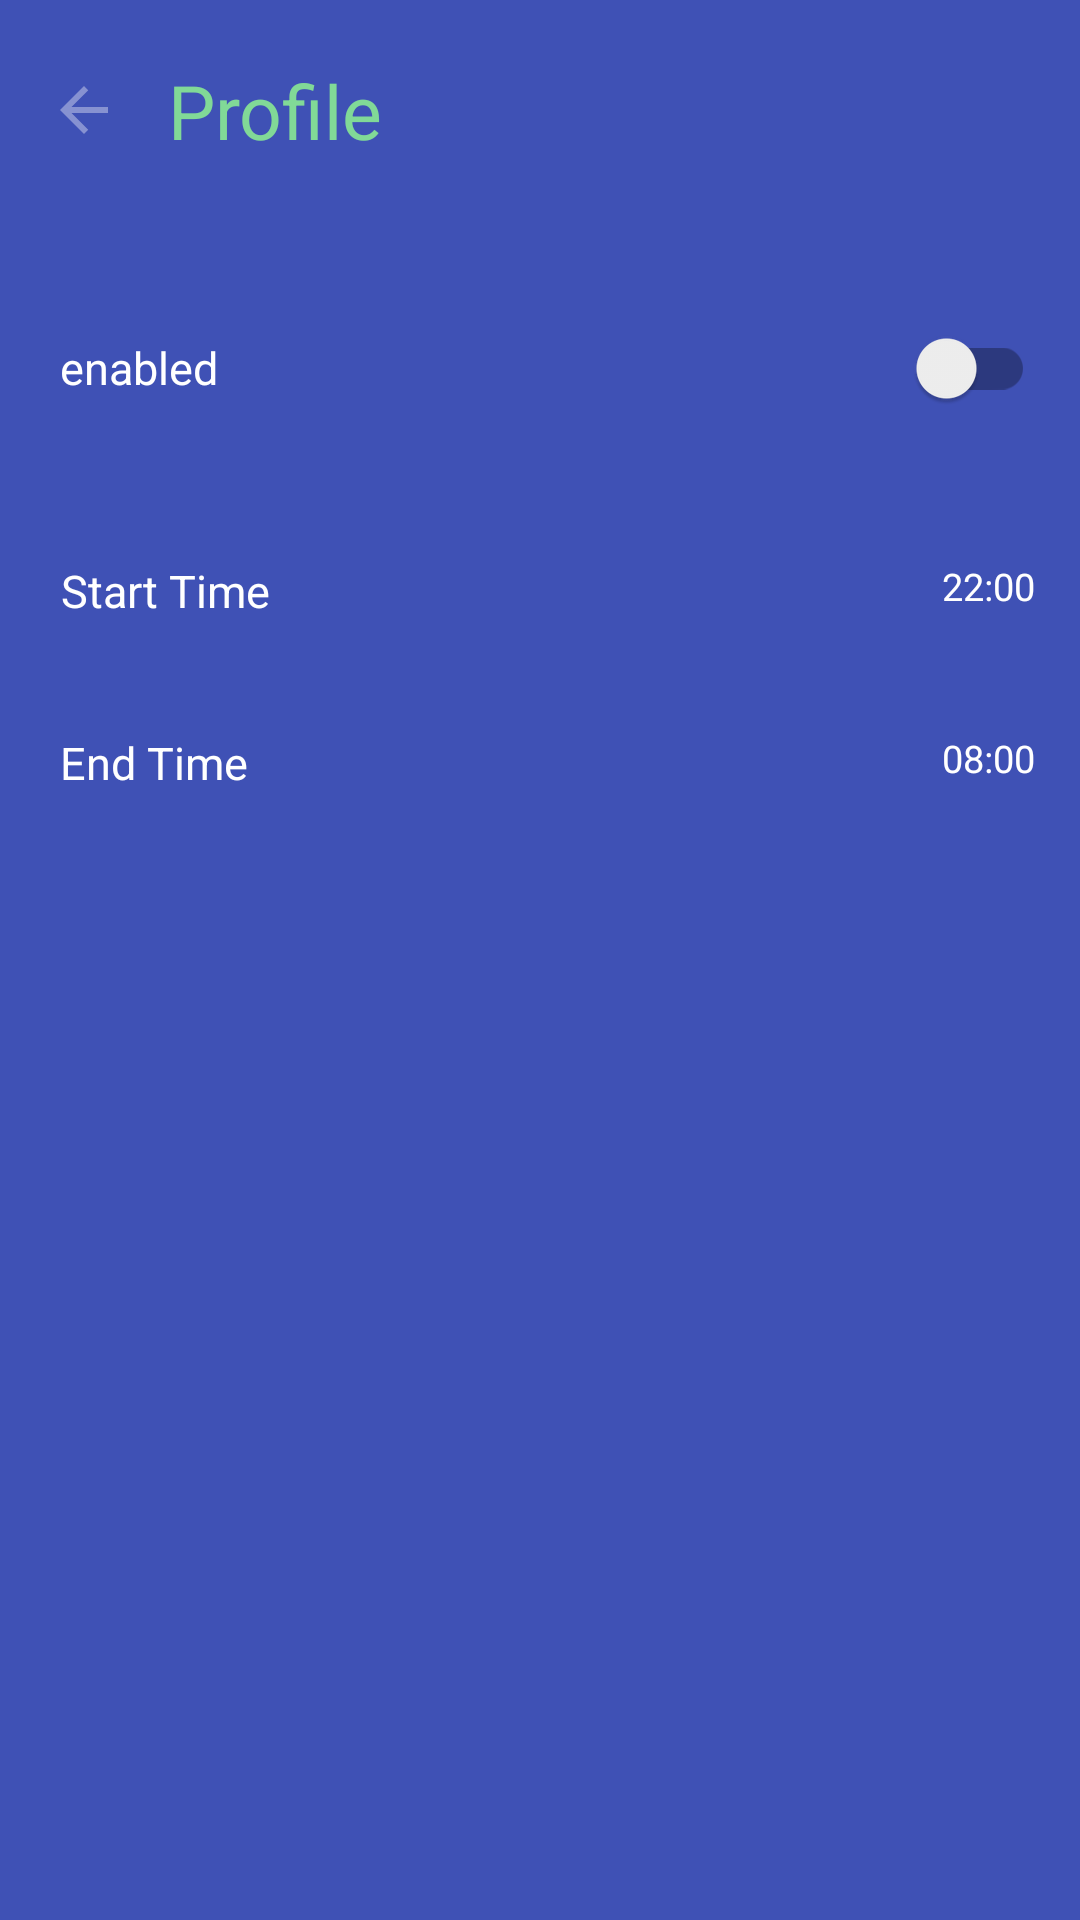

Icons on this 1080px x 1920px Android screen, each with the point to tap as (x,y):
back: (84,110)
